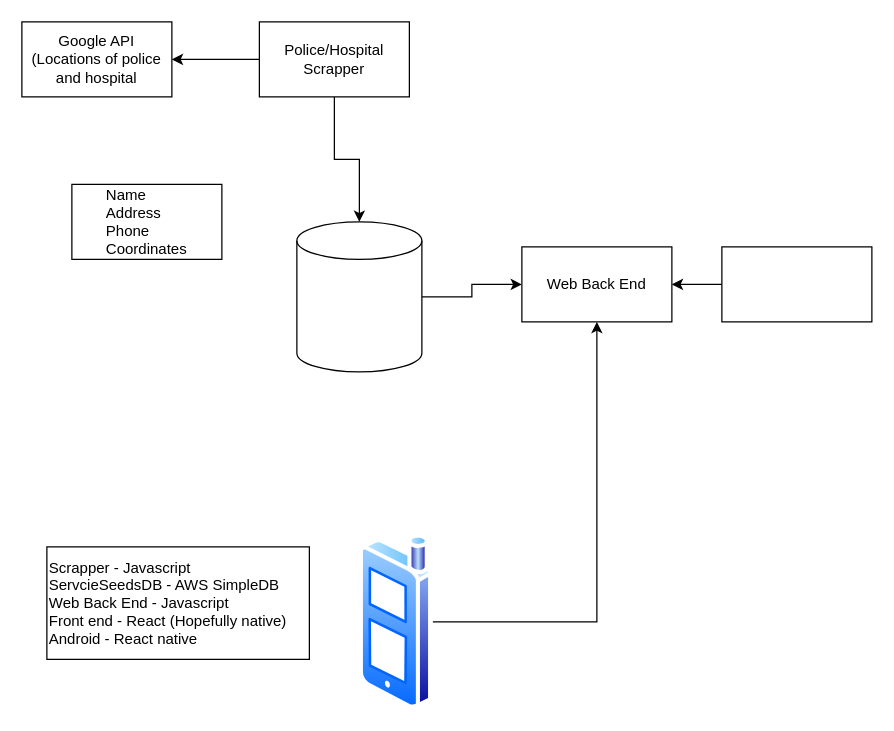
Image size: 894x731. Some labels were removed from this diagram. Each missing label, with the centre of its shape:
"ServiceSeeds DB" goes at [359,296].
"Web Front End" goes at [796,284].
